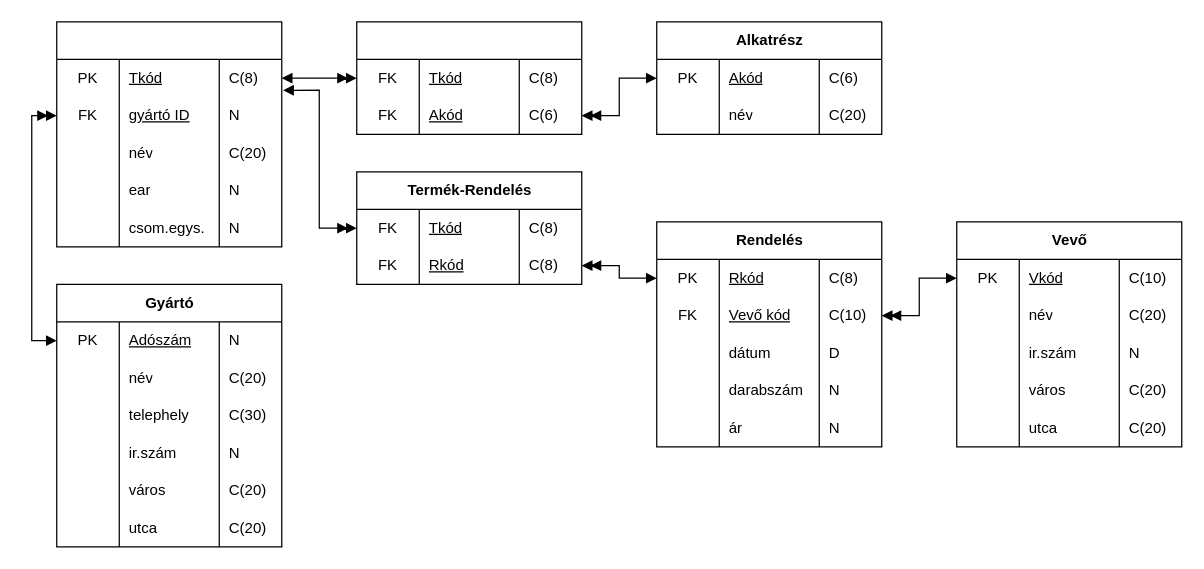
This 1204x569 diagram has some shape labels left out. Here are the shapes that lost their labels. From the top down, the box of each, then its label:
(356, 21, 582, 134): Termék-Alkatrész
(56, 21, 282, 247): Termék
